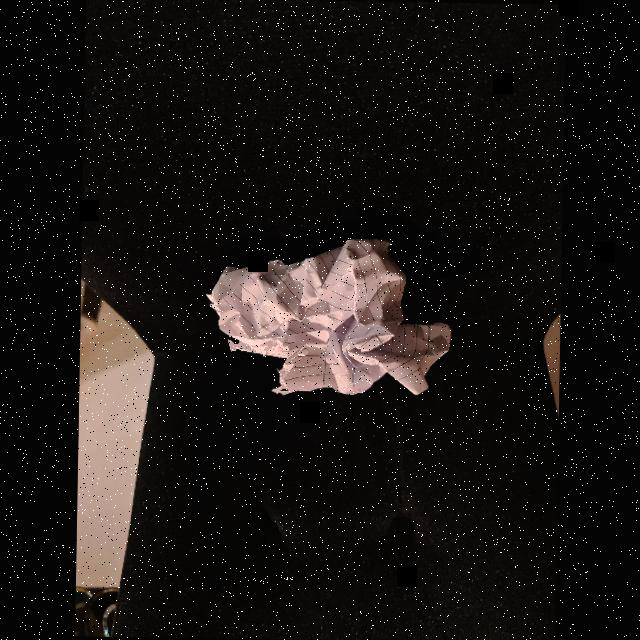scrap_paper: (204, 239, 463, 397)
